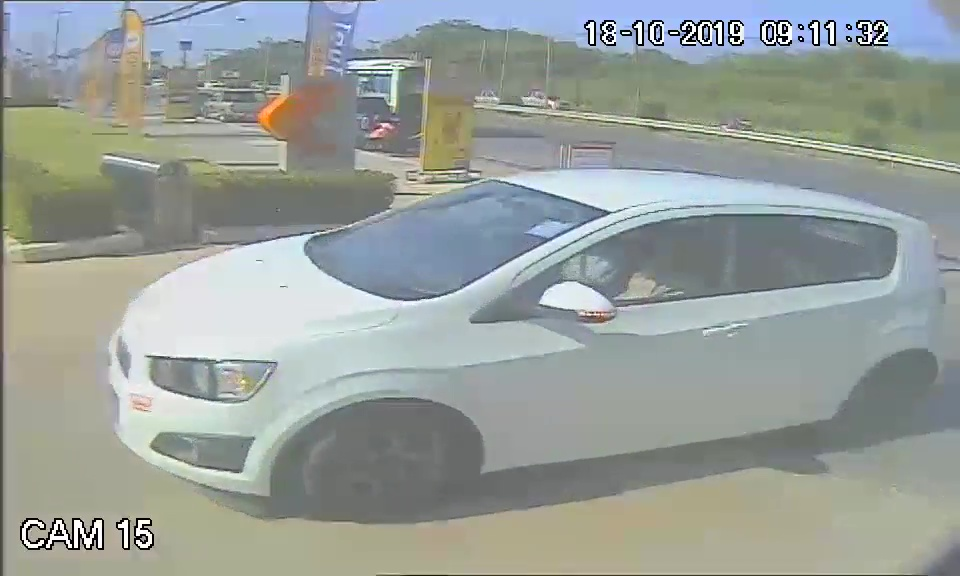sedan: (108, 164, 948, 508)
